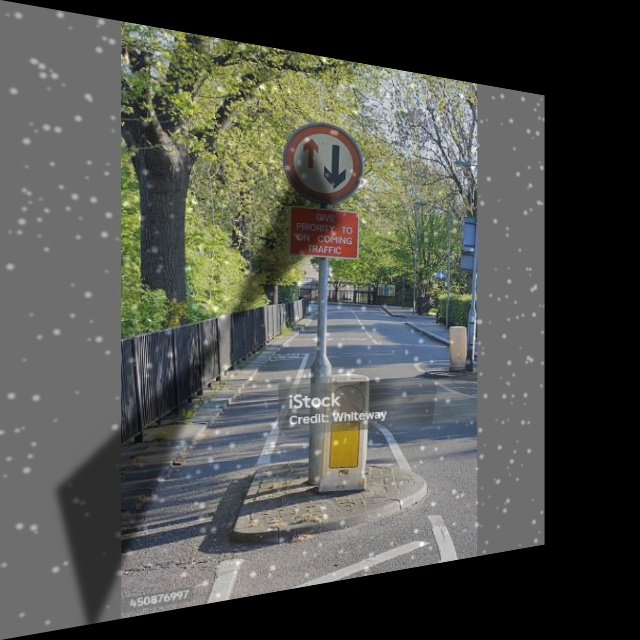Priority_for_Oncoming_Traffic: (286, 120, 363, 206)
